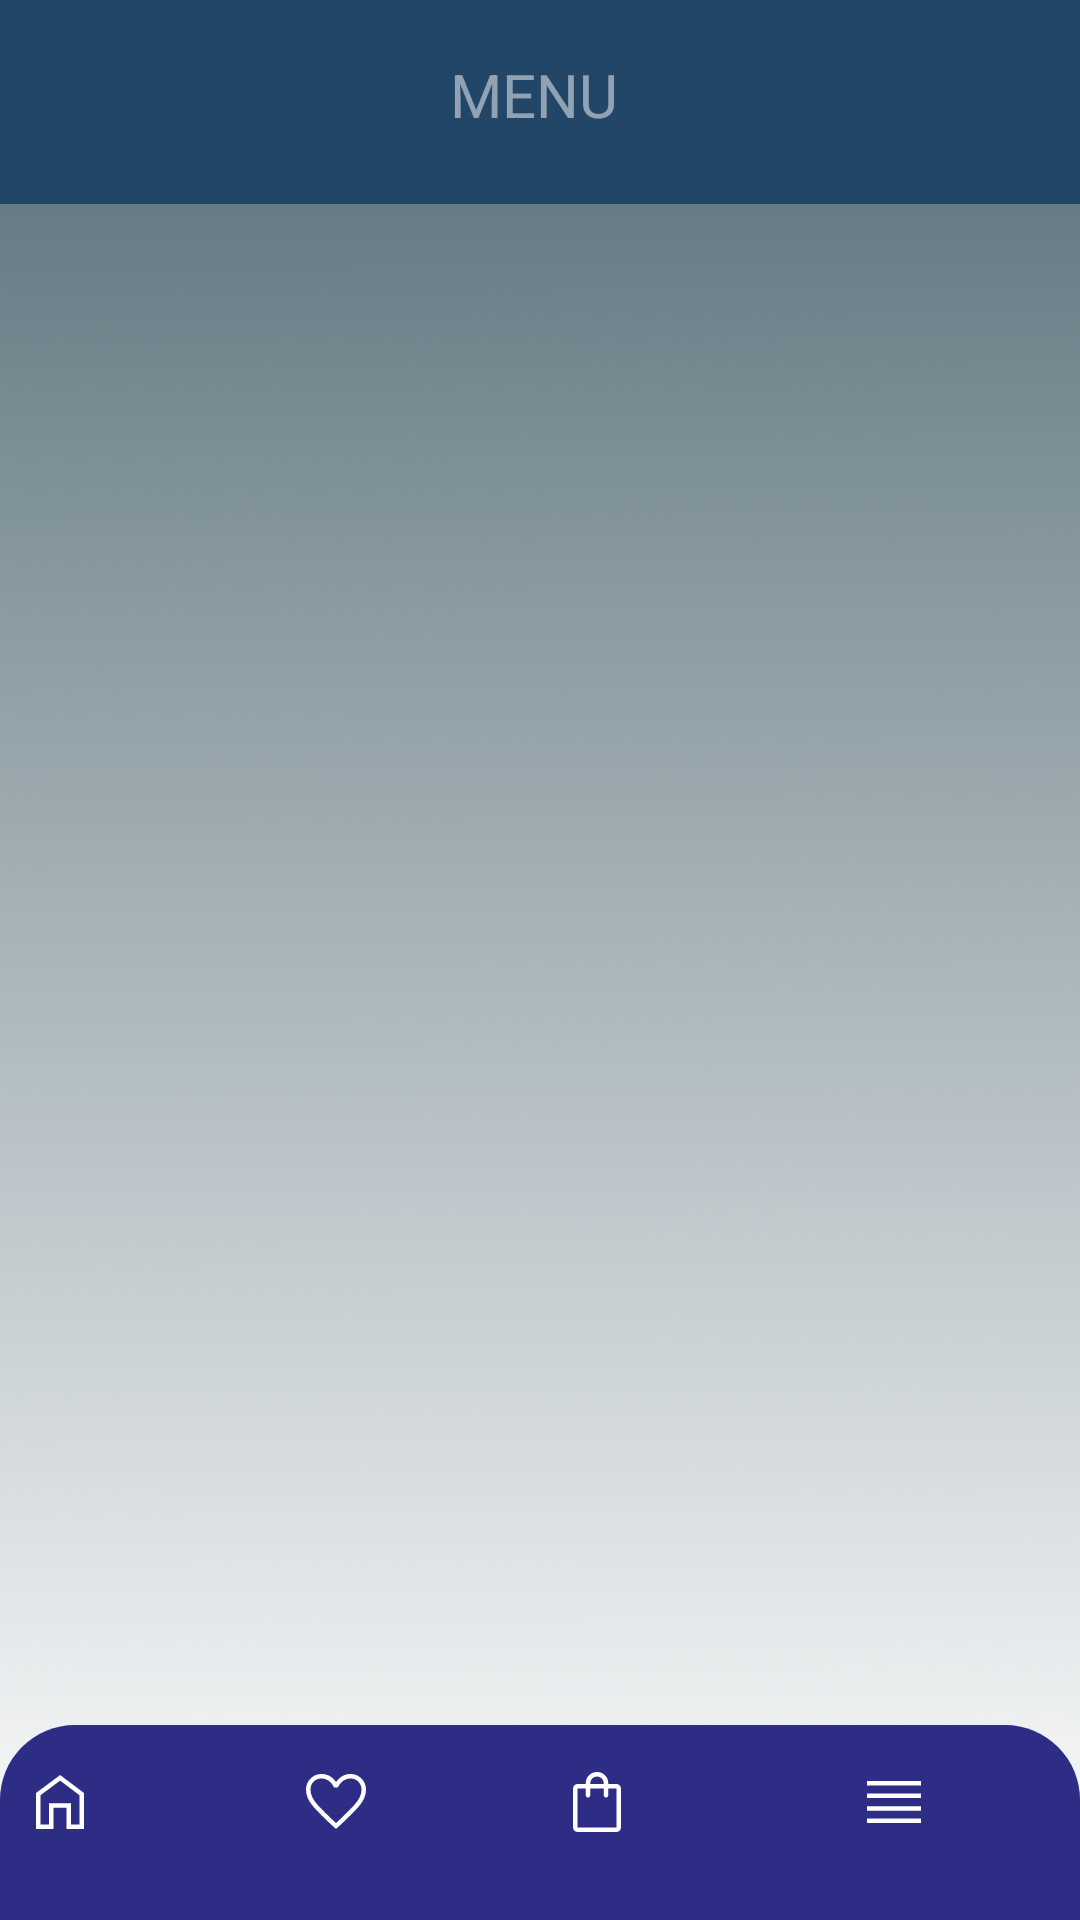

Where icons sit on this 1080px×1920px app screen, as (left=x1, top=y1, right=x2, bottom=y2):
favorite: (left=306, top=1774, right=366, bottom=1829)
home: (left=36, top=1775, right=84, bottom=1829)
reorder: (left=867, top=1781, right=921, bottom=1823)
shopping bag: (left=573, top=1772, right=621, bottom=1832)
